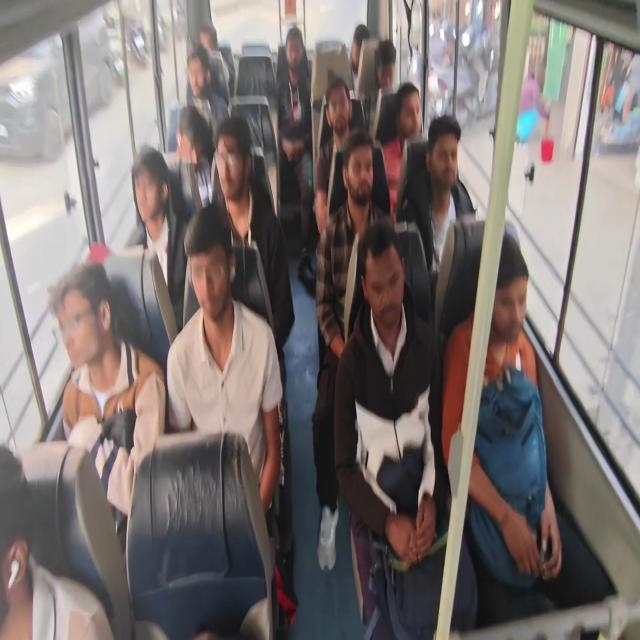person: (38, 277, 111, 372), (0, 449, 41, 611), (178, 227, 232, 327), (361, 244, 406, 336), (484, 244, 527, 336), (212, 133, 248, 206), (129, 153, 163, 228), (340, 145, 380, 196), (430, 132, 458, 190), (396, 90, 426, 138), (186, 54, 213, 102), (174, 118, 199, 168), (284, 29, 306, 78), (328, 91, 354, 131), (191, 20, 216, 53), (375, 46, 395, 87), (351, 30, 367, 68)
